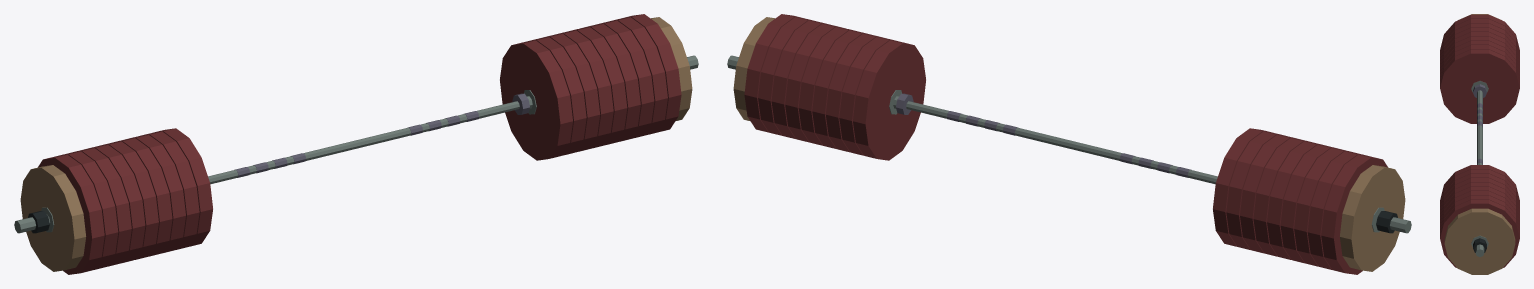
File: bara_500.glb
3 views of the same model, side by side, from view 1: azimuth 30°, elevation 25°; view 2: azimuth 150°, elevation 25°; view 3: azimuth 270°, elevation 25° (orthographic). The views are drawn at different scales.
Visible parts, largest first — view 1: Bara; view 2: Bara; view 3: Bara.
Part boxes in pixels (x1,y1,x2,y2): Bara: (14,14,698,274); Bara: (727,14,1411,274); Bara: (1440,14,1519,274).
Size of the model in its own units: 2.9 by 0.4387 by 0.45.
